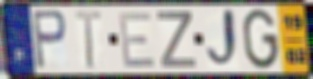E: (117, 10, 158, 70)
G: (241, 7, 280, 72)
J: (204, 6, 242, 72)
P: (30, 8, 69, 72)
T: (73, 9, 104, 71)
Z: (155, 10, 199, 70)
